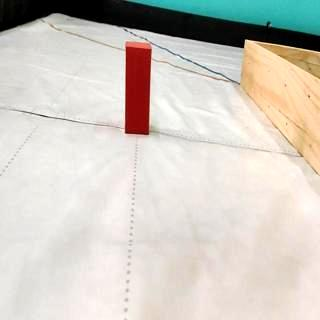redbox: (124, 41, 152, 136)
